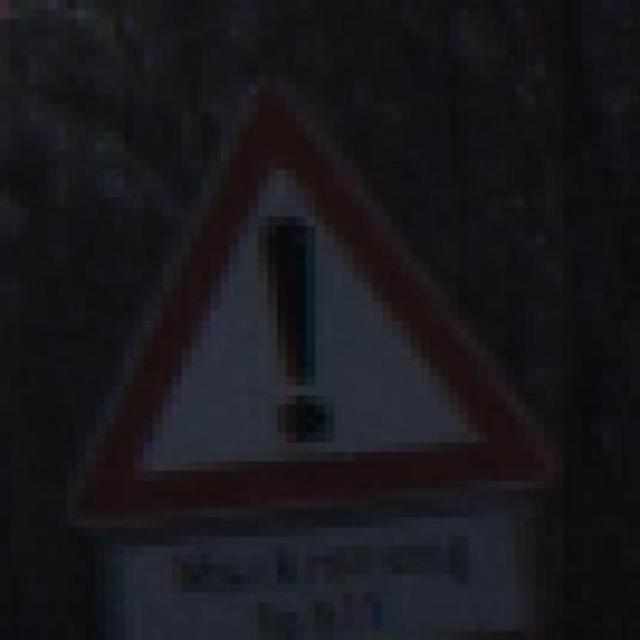Attention Please-: (67, 75, 564, 537)
